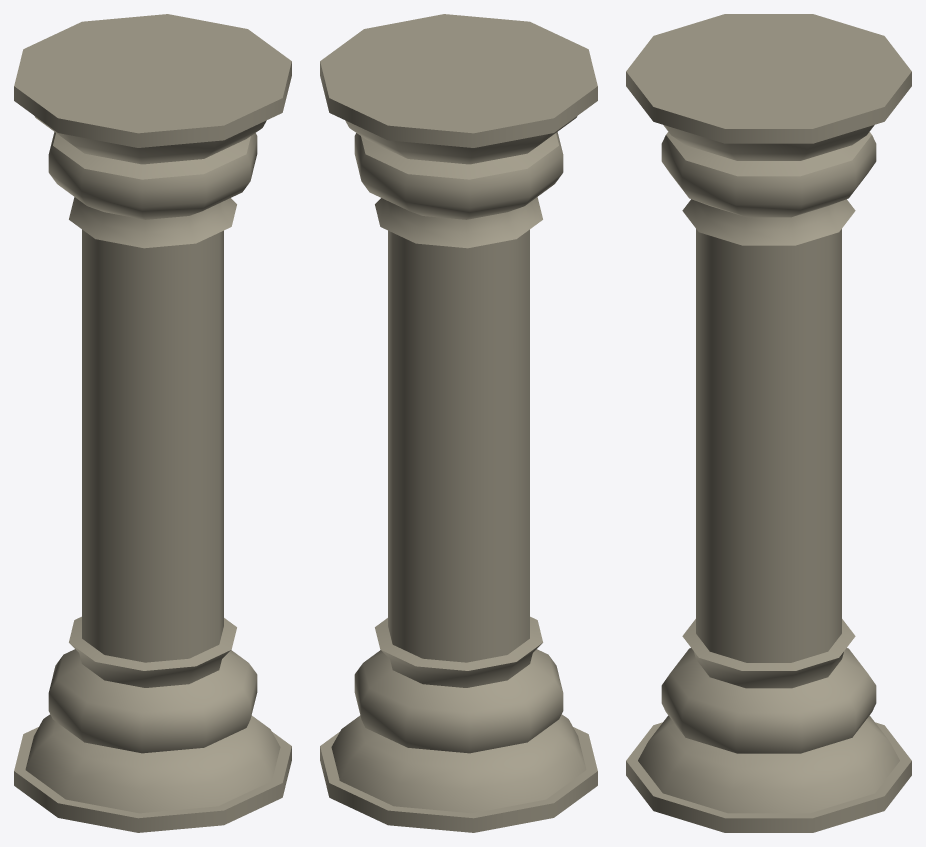
File: Column_Round2.glb
The picture shows the model from 3 angles, left to right: view 1: azimuth 30°, elevation 25°; view 2: azimuth 150°, elevation 25°; view 3: azimuth 270°, elevation 25°; orthographic projection.
Visible parts, largest first — view 1: Column_Round2; view 2: Column_Round2; view 3: Column_Round2.
Boxes of the visible parts, bbox=[...] form: Column_Round2: bbox=[14, 14, 291, 832]; Column_Round2: bbox=[320, 14, 597, 832]; Column_Round2: bbox=[626, 14, 911, 832].
Bounding box in the file's own units: 1.4 × 4 × 1.47.
